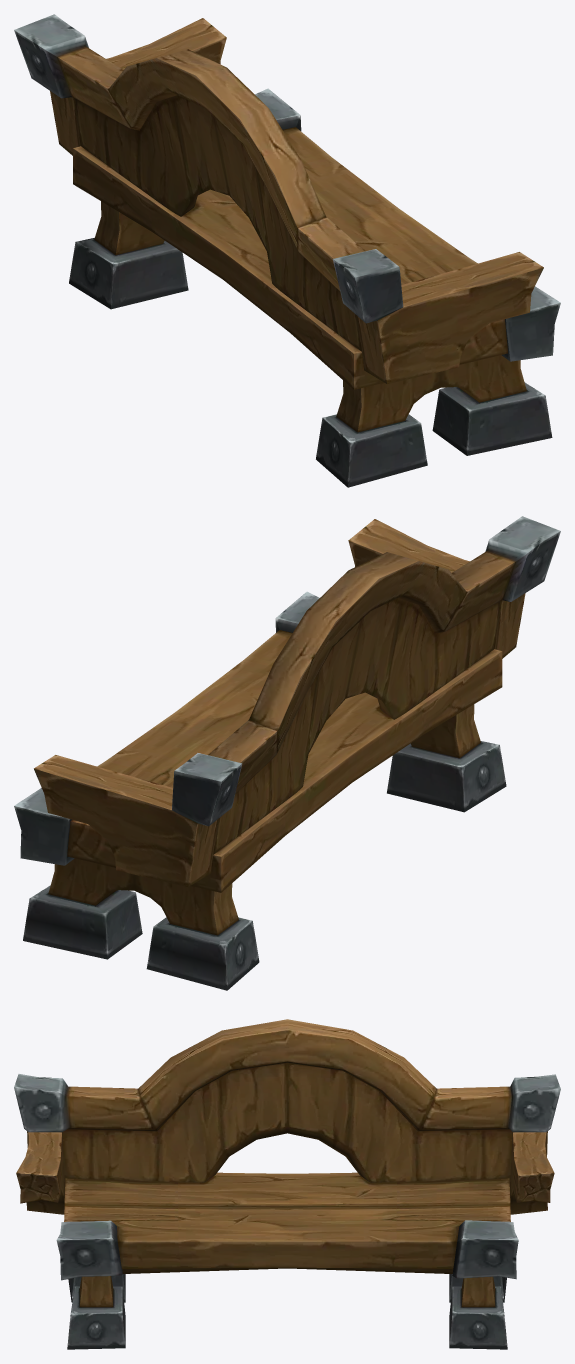
3 renders of one model, top to bottom at view 1: azimuth 30°, elevation 25°; view 2: azimuth 150°, elevation 25°; view 3: azimuth 270°, elevation 25°, orthographic. The views are drawn at different scales.
Size of the model in its own units: 0.7454 by 0.968 by 1.94.
1 material, 1 textured.
